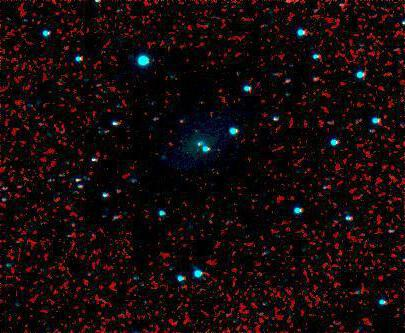star: (183, 122, 213, 152)
